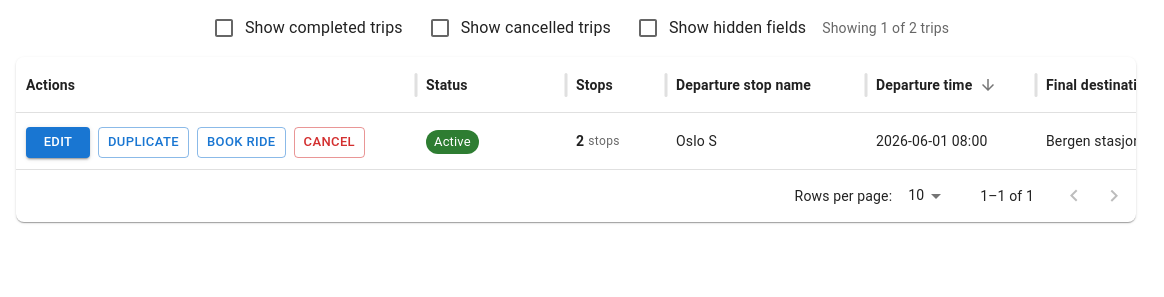
Test: CarPoolingTrips › filters out trips whose latest expected arrival is in the past unless toggled
expect the row "Oslo S" is shown: met, box [26, 127, 1136, 158]
expect the text "Past departure" is not shown: met
Step 1. Click the checkbox labelled "Show completed trips" → click(307, 28), box [212, 16, 403, 40]
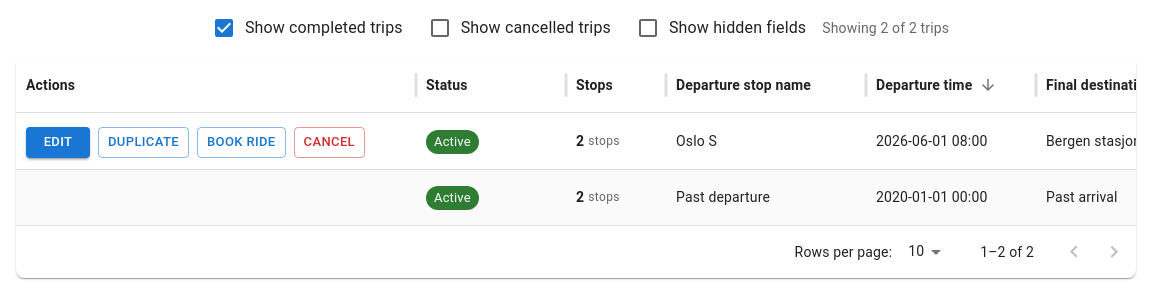
expect the text "Past departure" is shown: met, box [666, 169, 866, 225]
expect the text "Showing 2 of 2 trips" is shown: met, box [822, 18, 949, 38]
